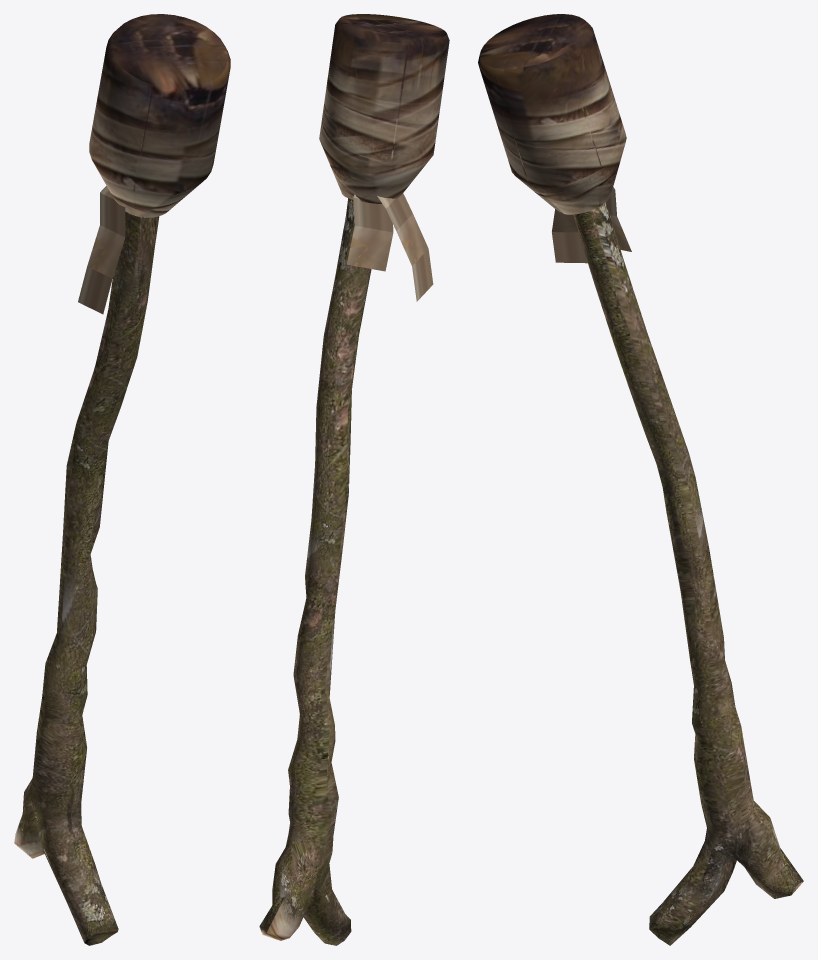
The model's file is torche.fbx.
The picture shows the model from 3 angles, left to right: view 1: azimuth 30°, elevation 25°; view 2: azimuth 150°, elevation 25°; view 3: azimuth 270°, elevation 25°; orthographic projection. The views are drawn at different scales.
Parts seen in each view (by area): view 1: branche; view 2: branche; view 3: branche.
Part boxes in pixels (bbox=[...]): branche: bbox=[14, 14, 230, 945]; branche: bbox=[259, 14, 449, 945]; branche: bbox=[478, 14, 803, 945].
Bounding box in the file's own units: 138 × 1119 × 361.
Materials: 3 (3 with a texture image).
